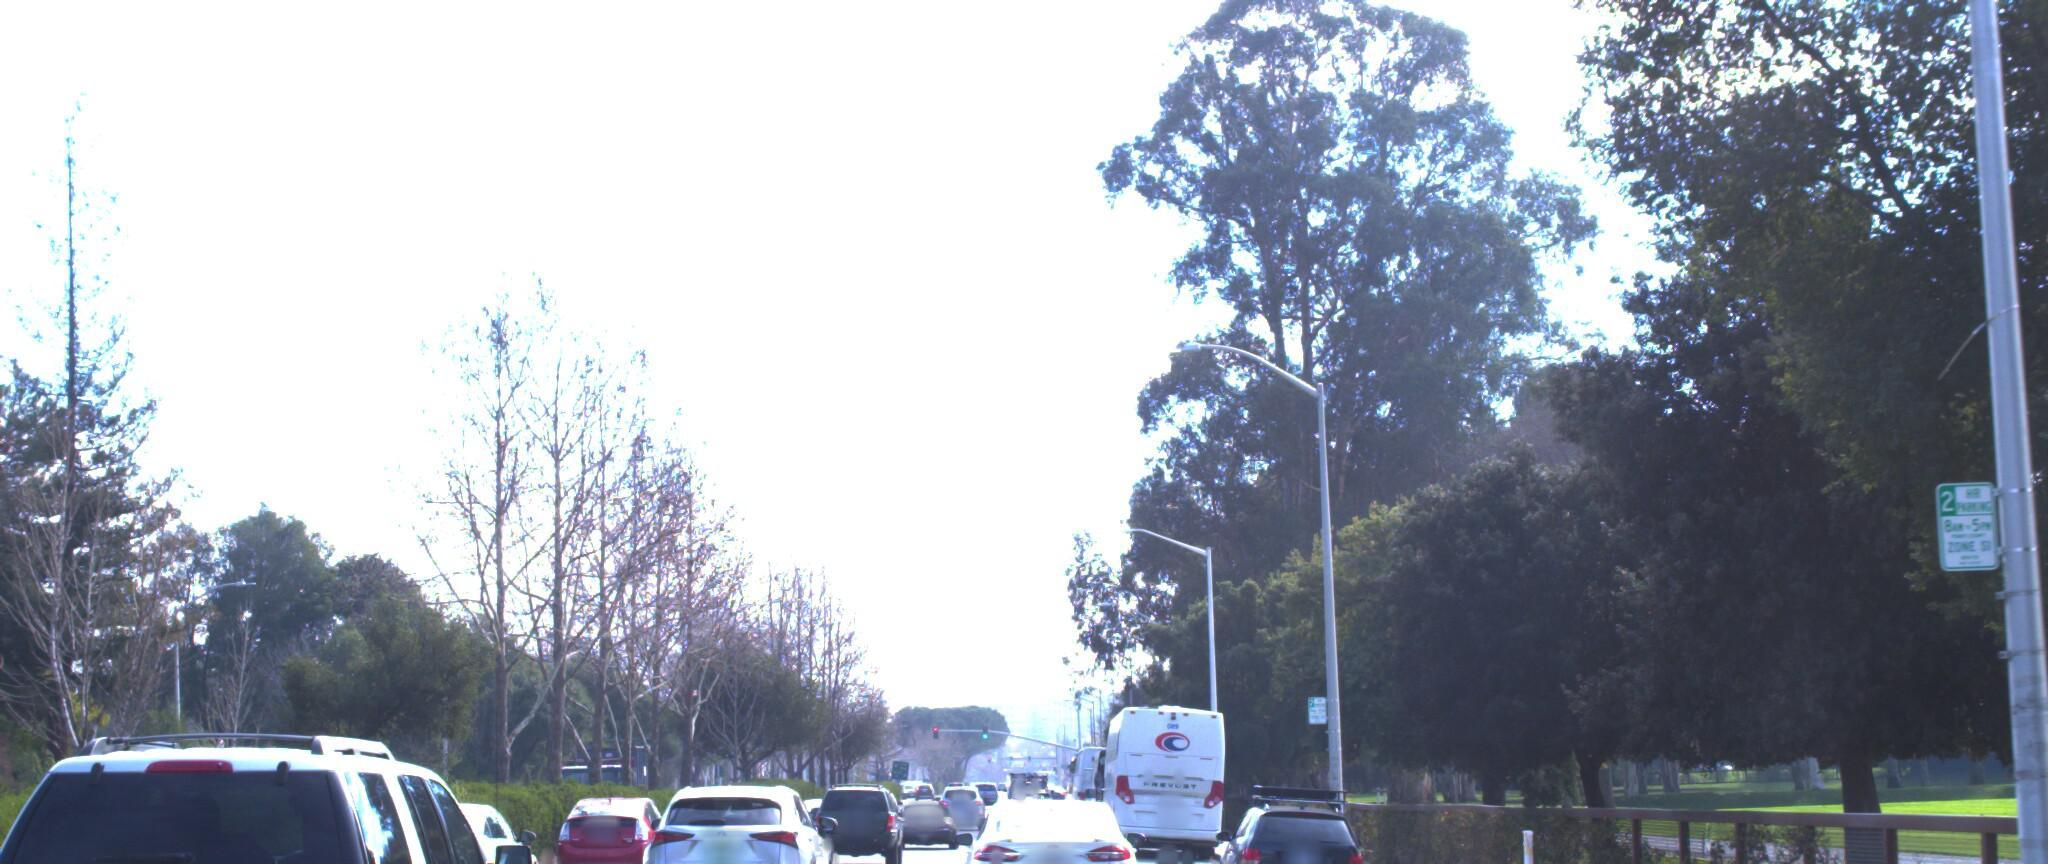bus: (1087, 694, 1230, 854)
car: (0, 690, 556, 864), (616, 780, 824, 864), (340, 790, 563, 864), (947, 784, 1132, 864), (1208, 771, 1360, 864), (533, 783, 671, 864), (803, 777, 901, 863), (875, 784, 953, 842)
